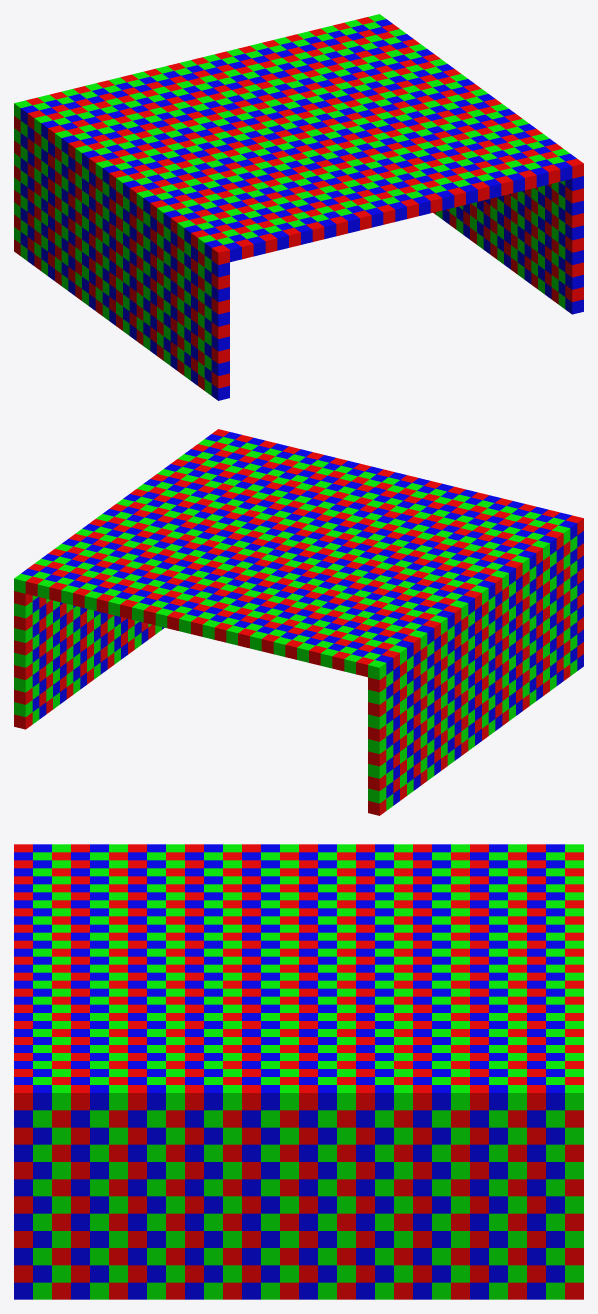
Rendered from progressive_tunnel.fbx.
3 views of the same model, one above another, from view 1: azimuth 30°, elevation 25°; view 2: azimuth 150°, elevation 25°; view 3: azimuth 270°, elevation 25° (orthographic). The views are drawn at different scales.
Parts seen in each view (by area): view 1: tunnel; view 2: tunnel; view 3: tunnel.
Part boxes in pixels (x1,y1,x2,y2): tunnel: (14, 14, 583, 400); tunnel: (14, 429, 583, 815); tunnel: (14, 844, 583, 1299).
Size of the model in its own units: 31 by 12 by 30.
1 material, 1 textured.
